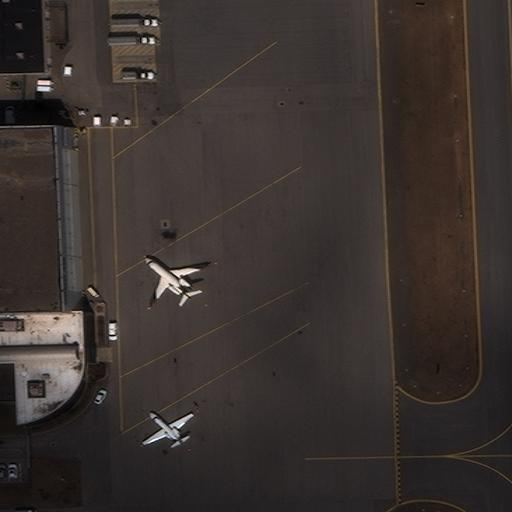Medium Civil Transport: (144, 258, 199, 302), (141, 413, 193, 444)
